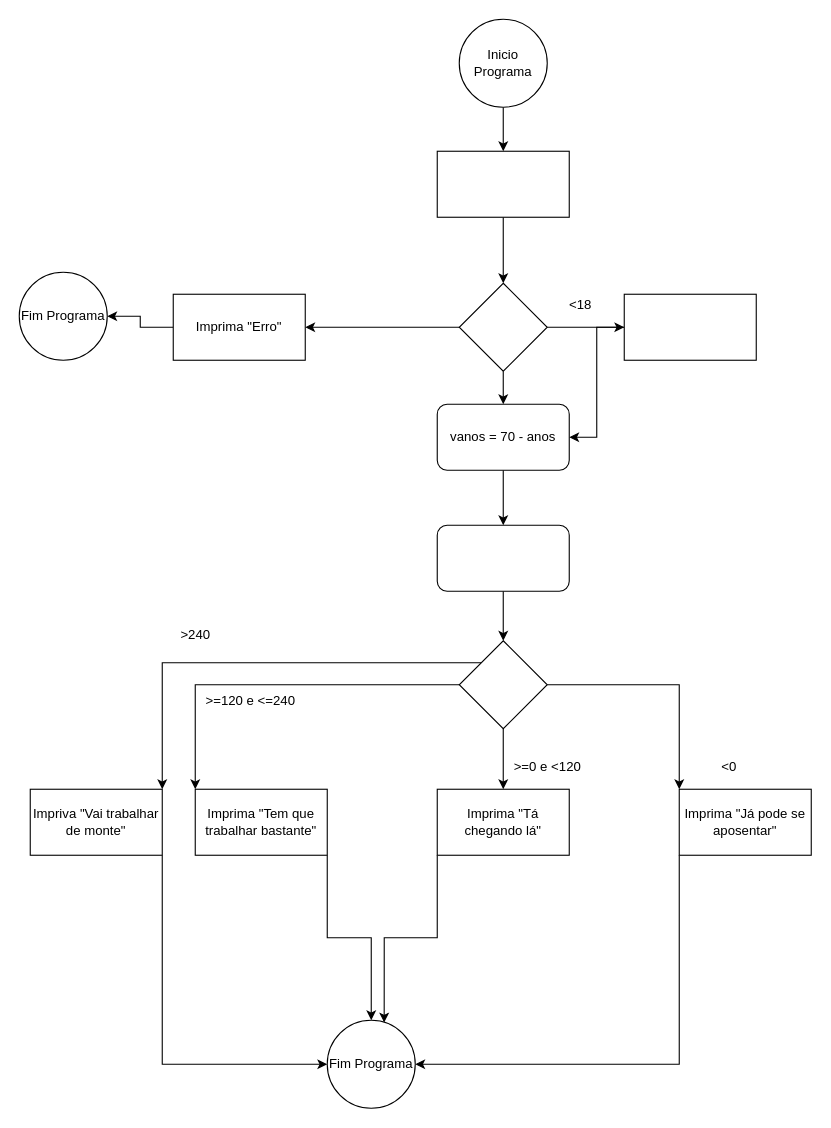
This 831x1128 diagram has some shape labels left out. Each missing label, with the centre of its shape:
Imprima "Já registrado???": point (689, 326)
Leia anos: point (502, 183)
vanos = vanos*12: point (502, 557)
